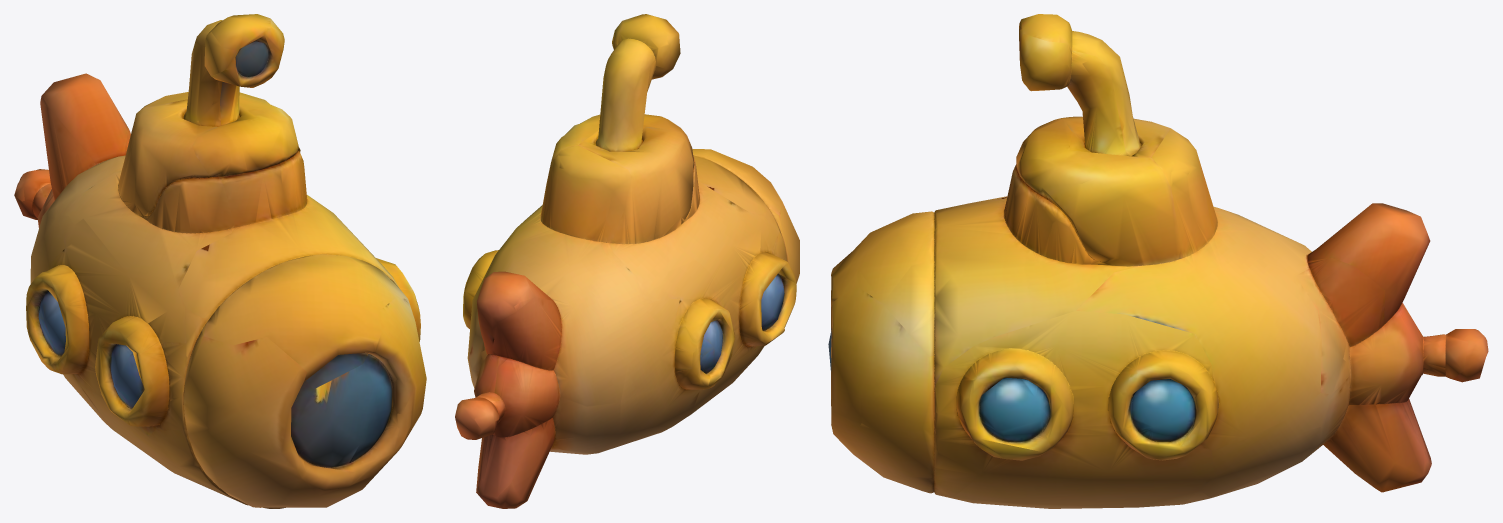
Rendered from submarine_pbr.glb.
3 views of the same model, side by side, from view 1: azimuth 30°, elevation 25°; view 2: azimuth 150°, elevation 25°; view 3: azimuth 270°, elevation 25° (orthographic). The views are drawn at different scales.
Parts seen in each view (by area): view 1: model; view 2: model; view 3: model.
Boxes of the visible parts, <box> form: model: <box>14,14,426,508</box>; model: <box>455,14,799,508</box>; model: <box>828,14,1488,508</box>.
Bounding box in the file's own units: 0.8987 × 1.42 × 1.77.
Materials: 1 (1 with a texture image).
